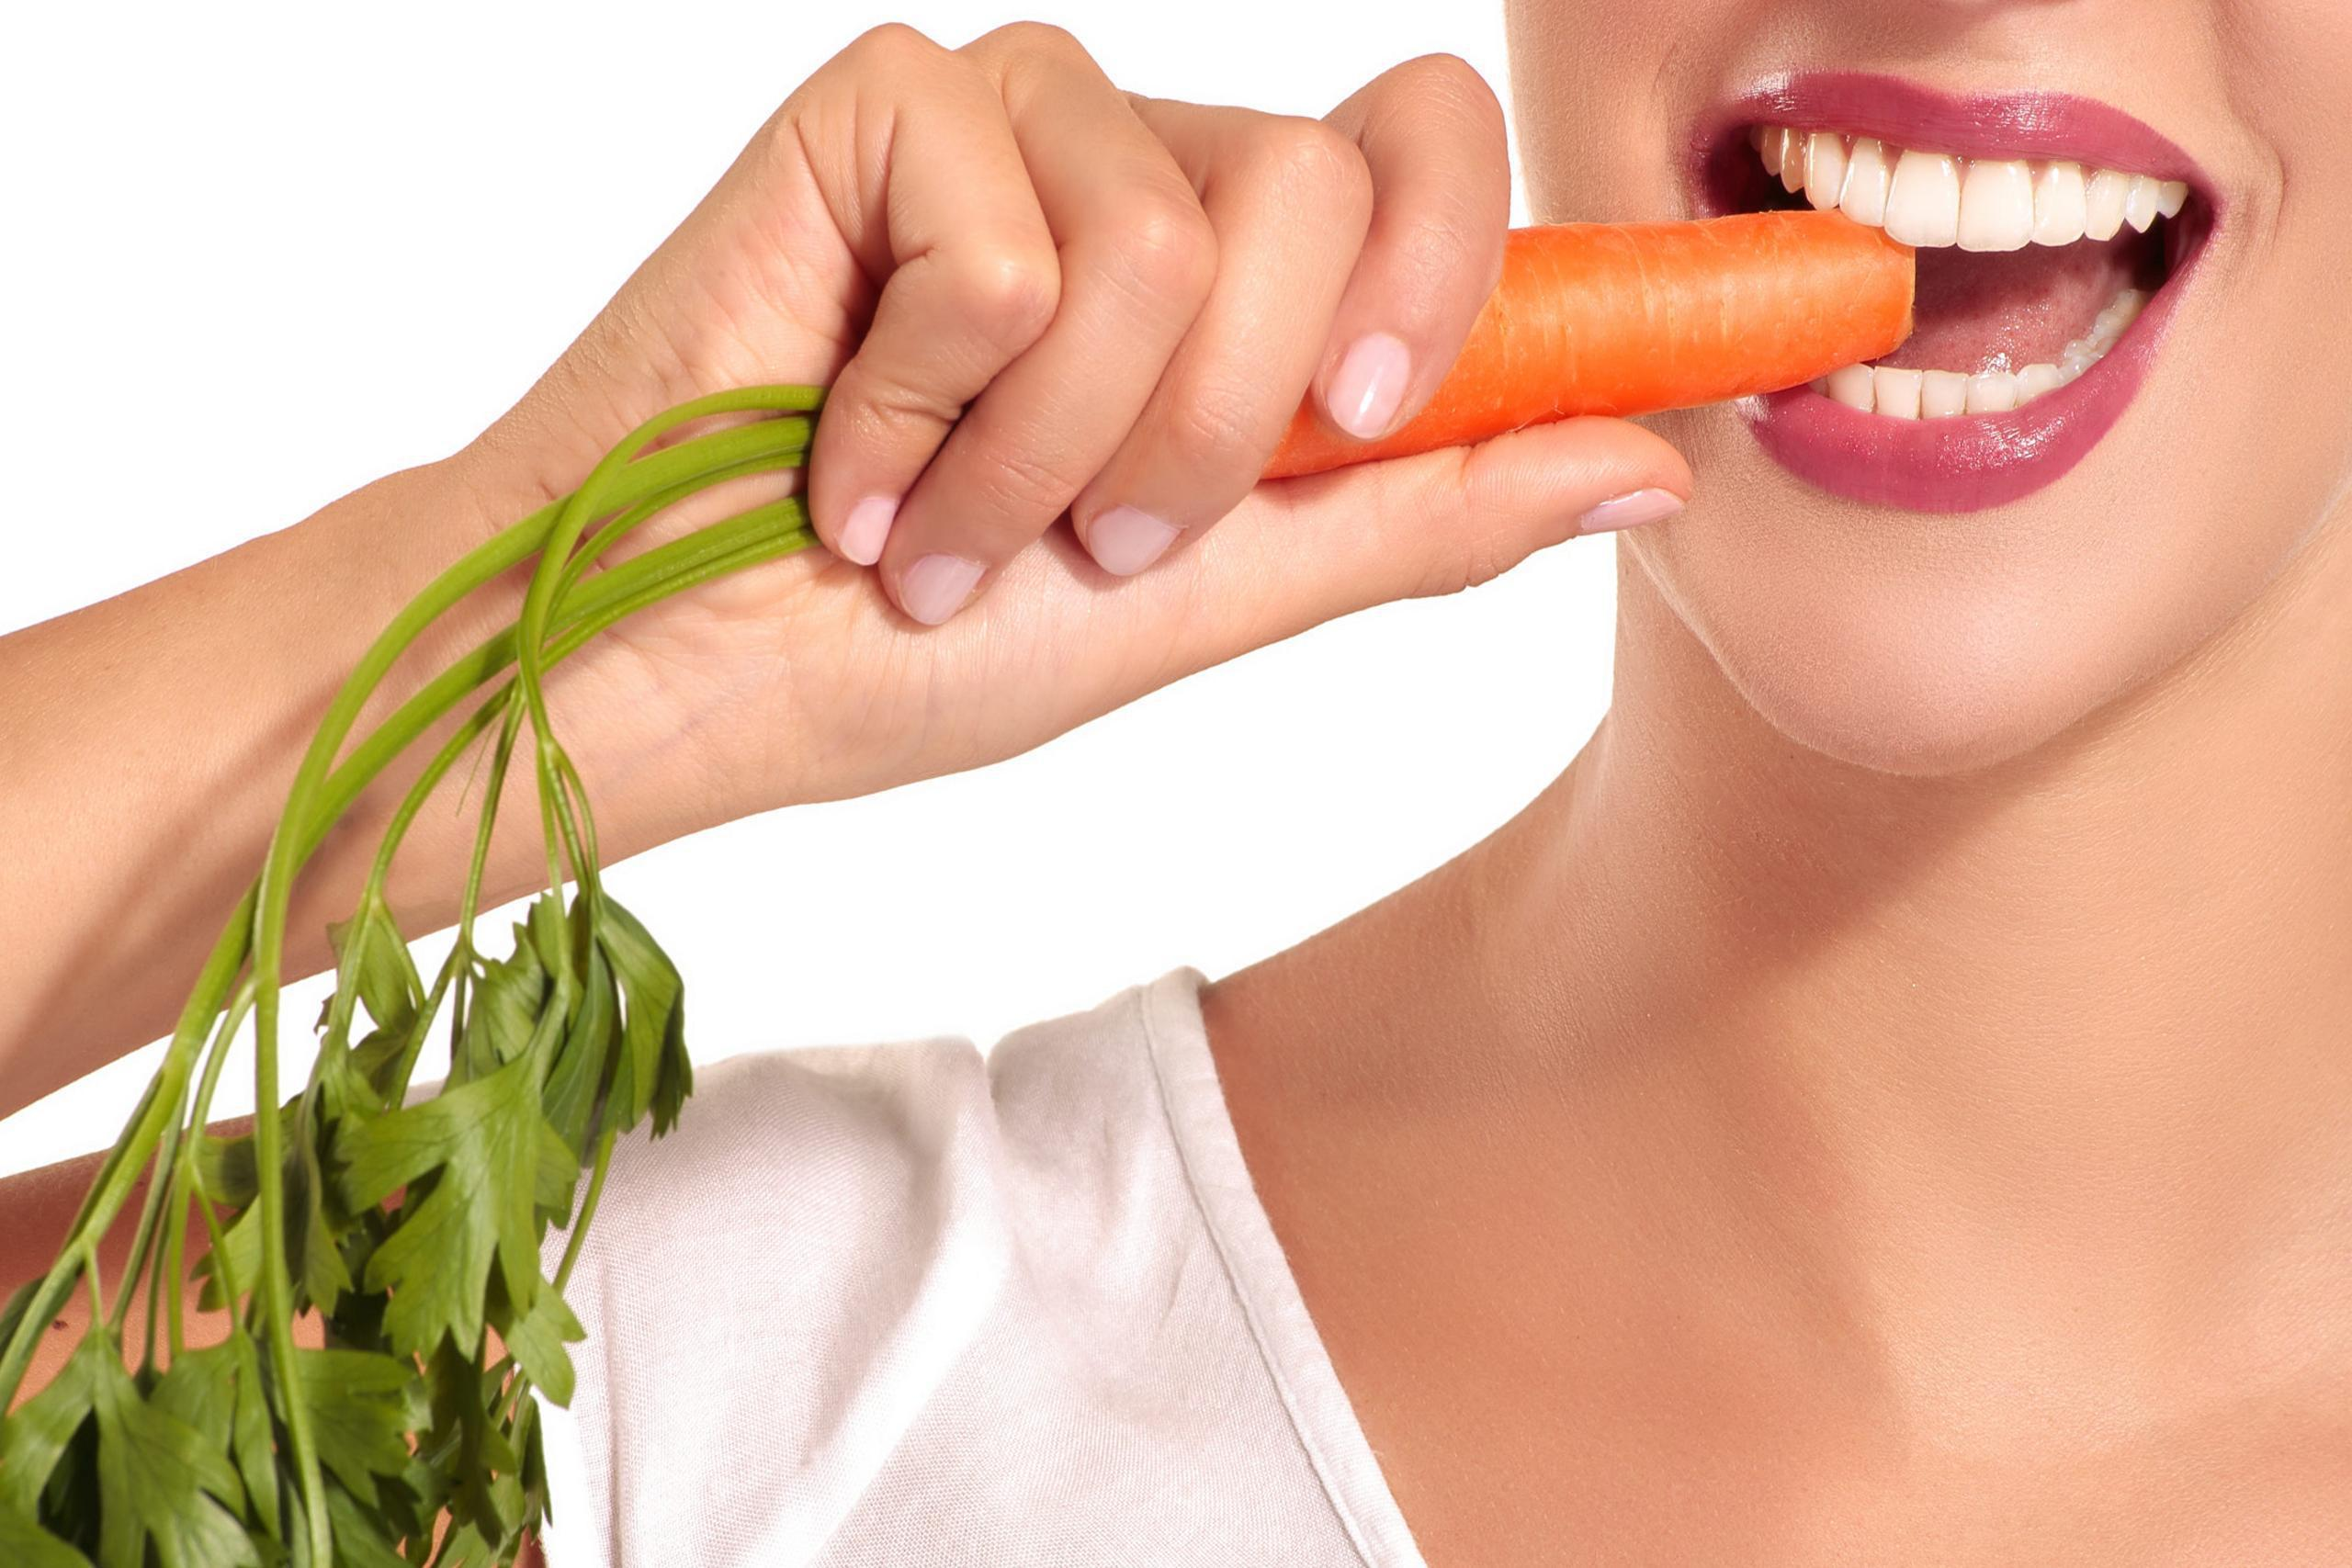carrot: (1262, 196, 1927, 422)
